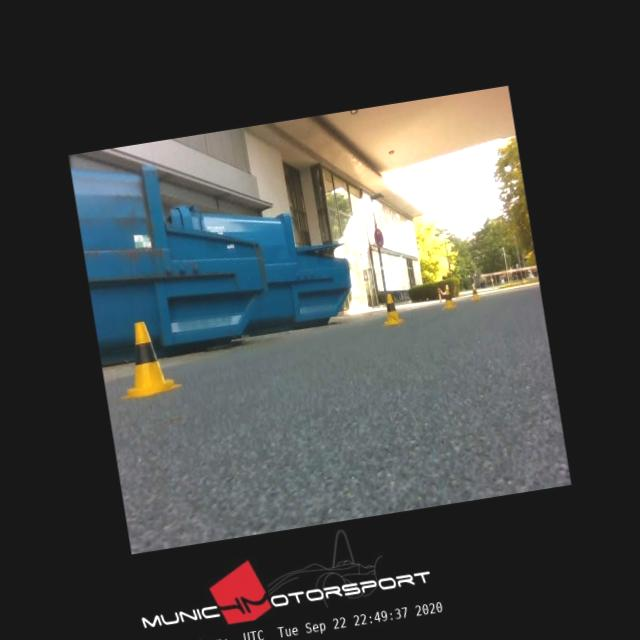yellow_cone: (109, 316, 183, 399), (379, 292, 404, 326), (439, 288, 456, 310), (468, 284, 480, 300)
